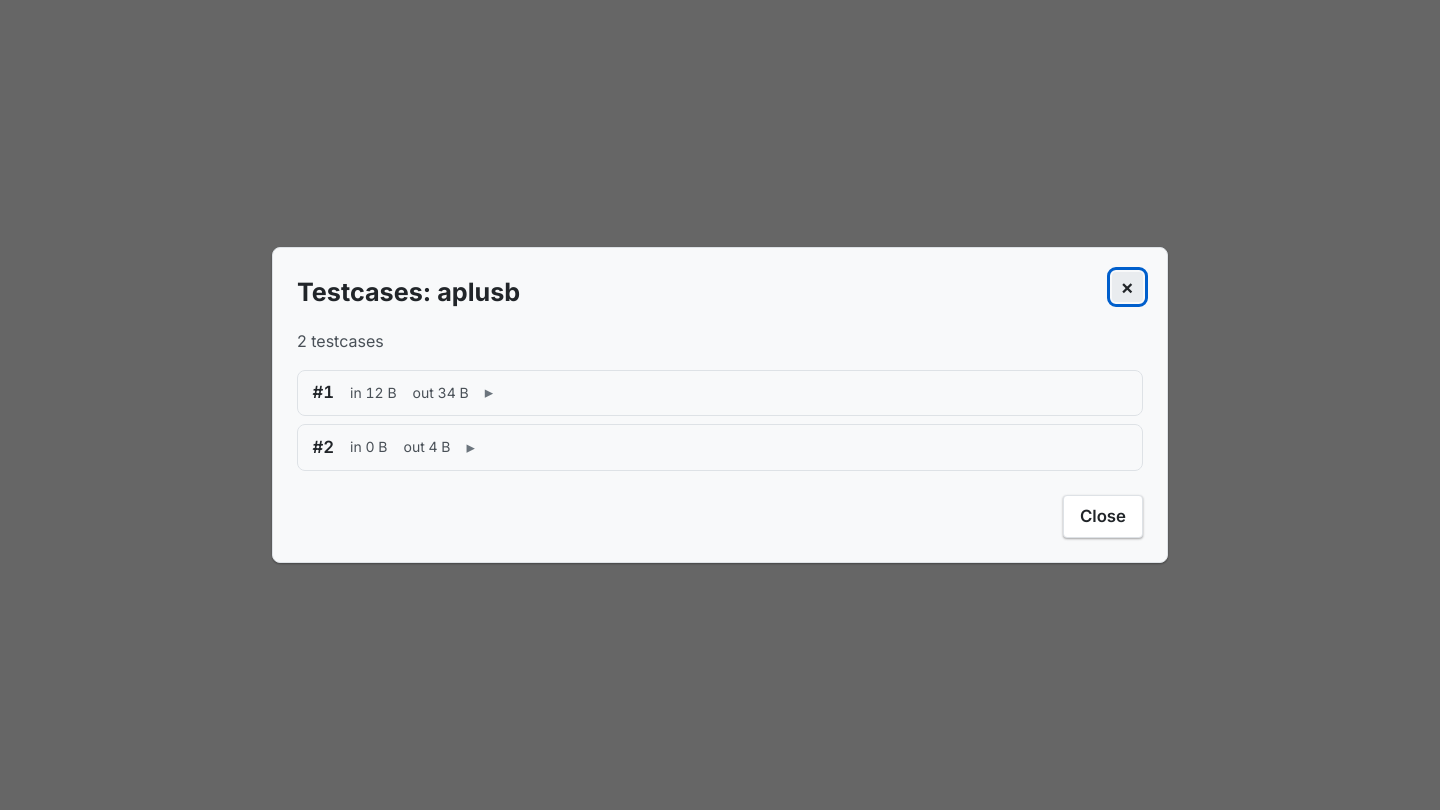
Test: TestcasesDialog › copies pane content via the clipboard
Click the button "#1 in 12 B out 34 B ▸" at (381, 392), box [298,371,1142,415]
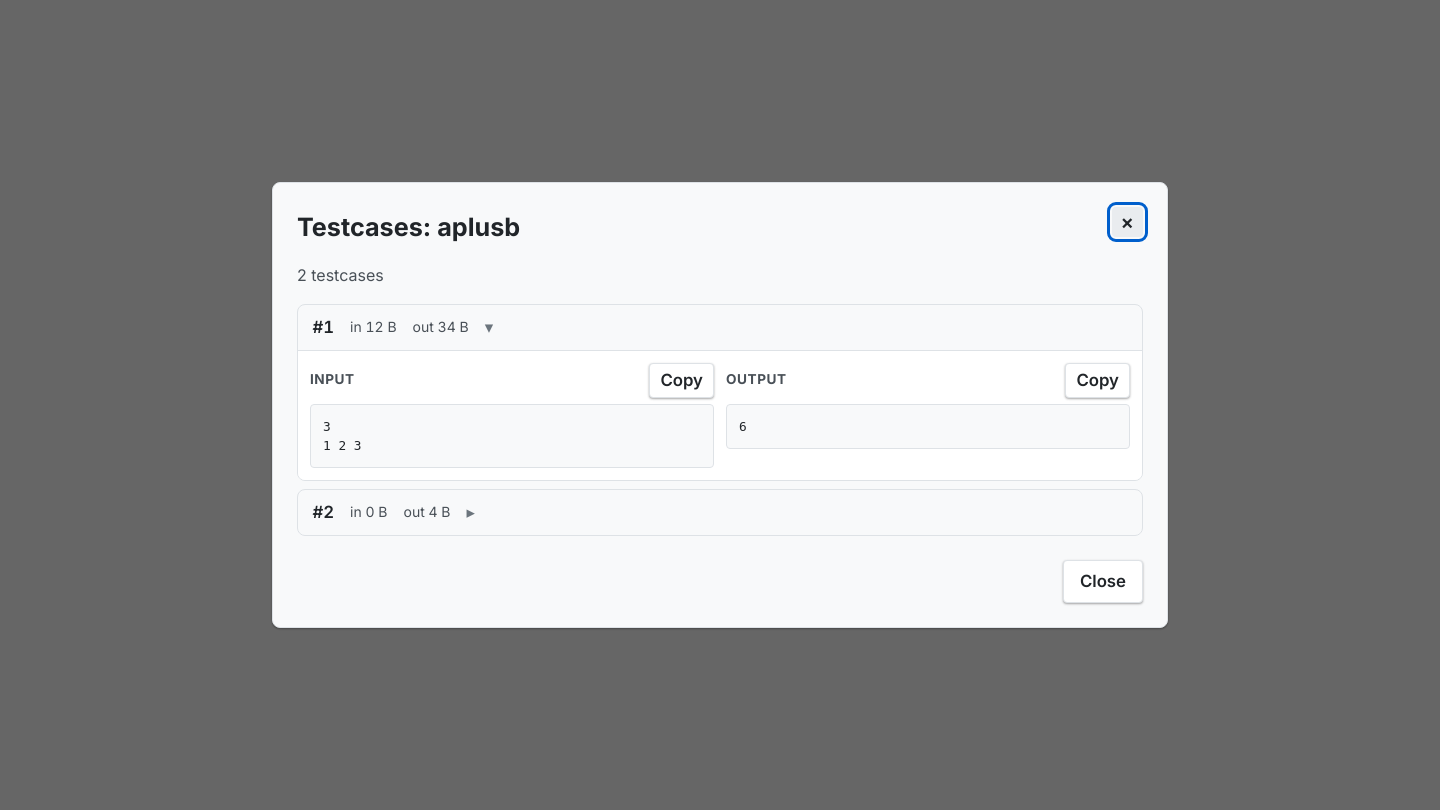
Click the button with aria-label "copy input of this case" at (682, 380), box [649,363,714,398]
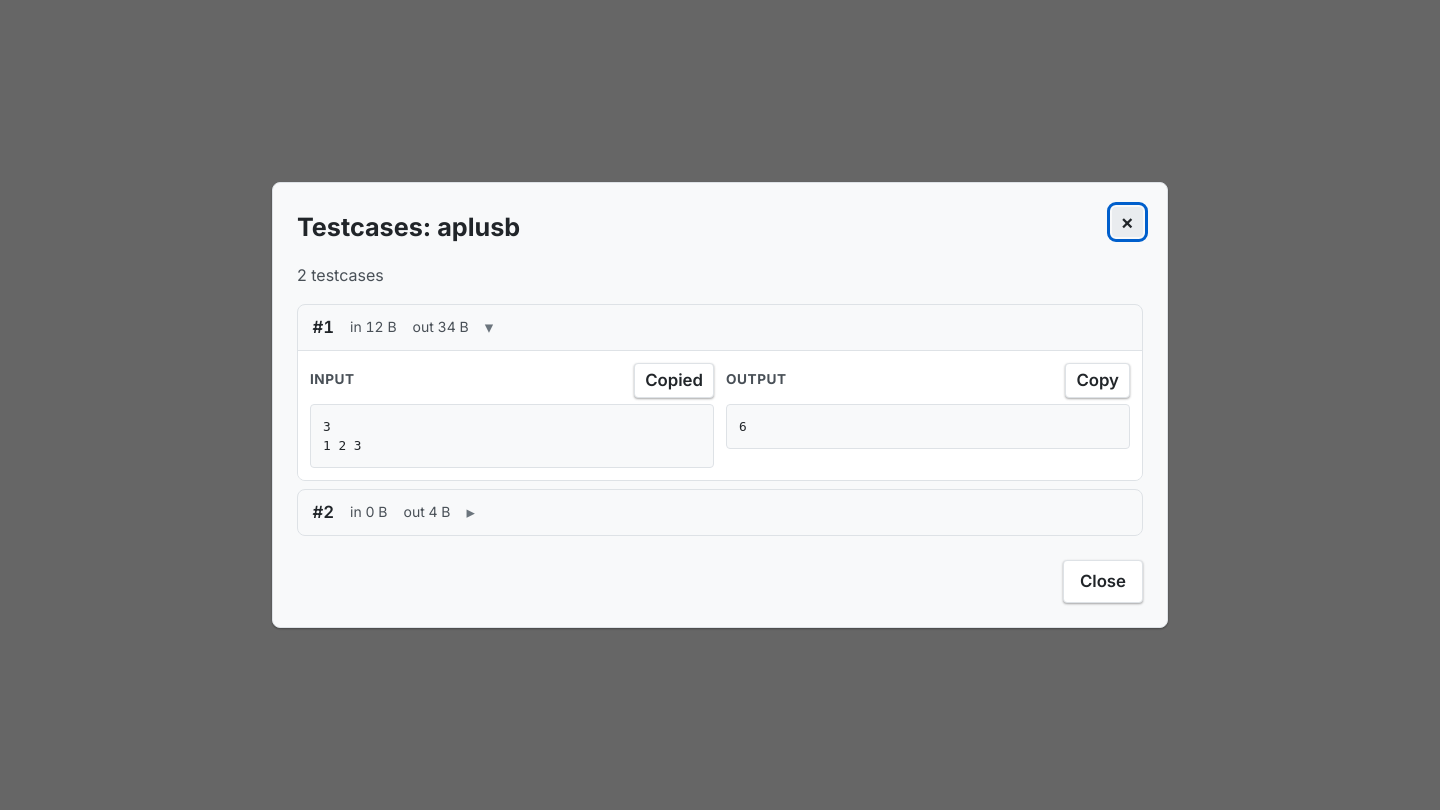
Expected: the button with aria-label "copy input of this case" reads "Copied", [634,363,714,398]
